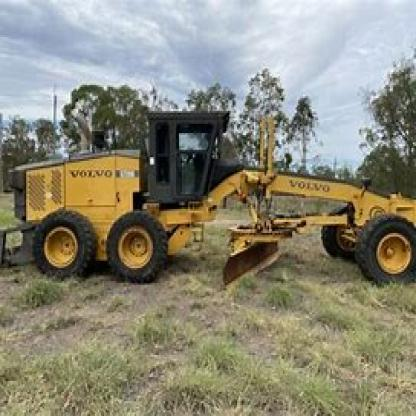bull_dozer/loader/grader: (9, 100, 415, 298)
